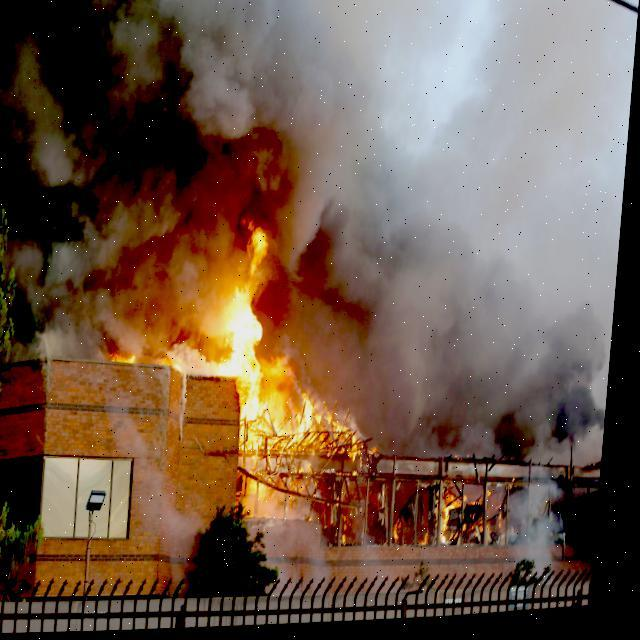Fire: (106, 221, 392, 478), (422, 472, 530, 546)
